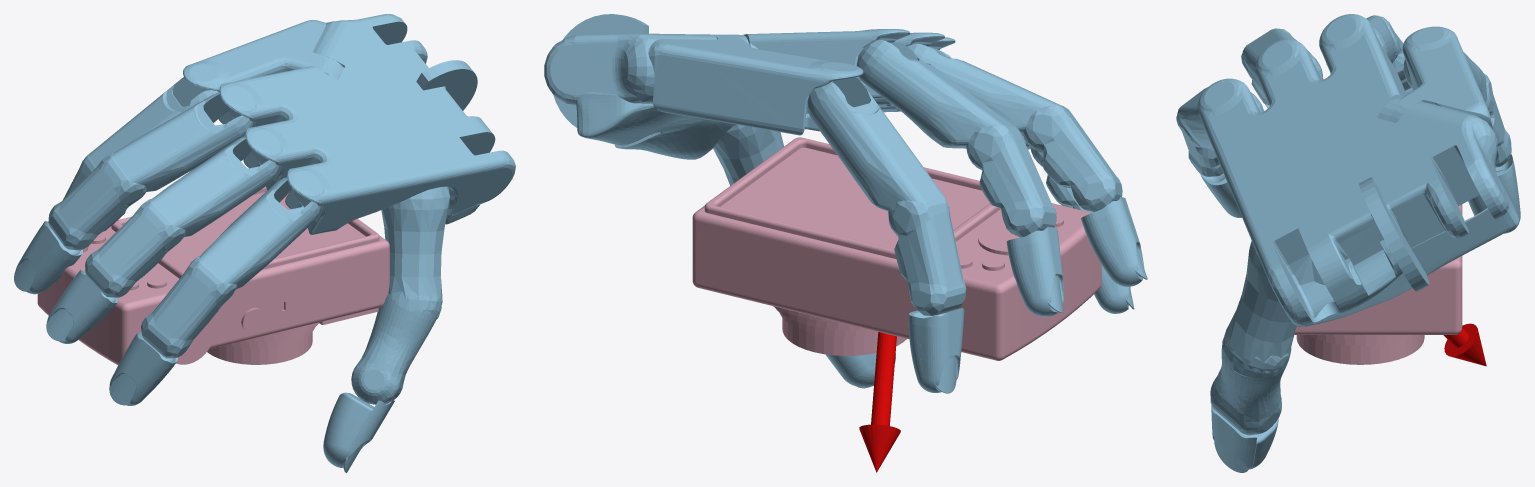
3 views of the same model, side by side, from view 1: azimuth 30°, elevation 25°; view 2: azimuth 150°, elevation 25°; view 3: azimuth 270°, elevation 25° (orthographic). The views are drawn at different scales.
Visible parts, largest first — view 1: world, camera.stl; view 2: world, camera.stl; view 3: world, camera.stl.
Part boxes in pixels (x1,y1,x2,y2): world: [14, 14, 515, 472]; camera.stl: [37, 186, 389, 364]; world: [544, 14, 1147, 472]; camera.stl: [692, 137, 1101, 360]; world: [1176, 14, 1520, 472]; camera.stl: [1294, 204, 1462, 364].
Bounding box in the file's own units: 0.1967 × 0.1463 × 0.1096.
